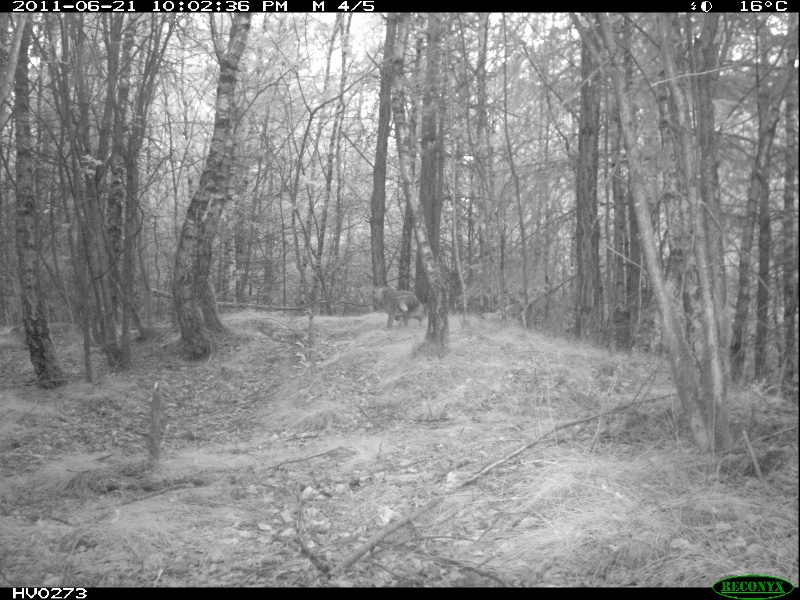fox: (376, 287, 433, 329)
